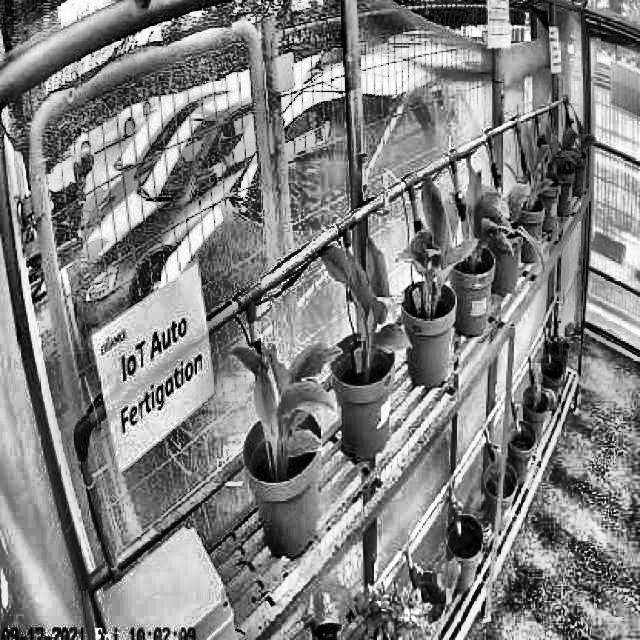plants: (235, 346, 342, 456), (319, 238, 413, 354), (404, 174, 474, 298), (464, 161, 512, 274), (523, 129, 551, 208)
